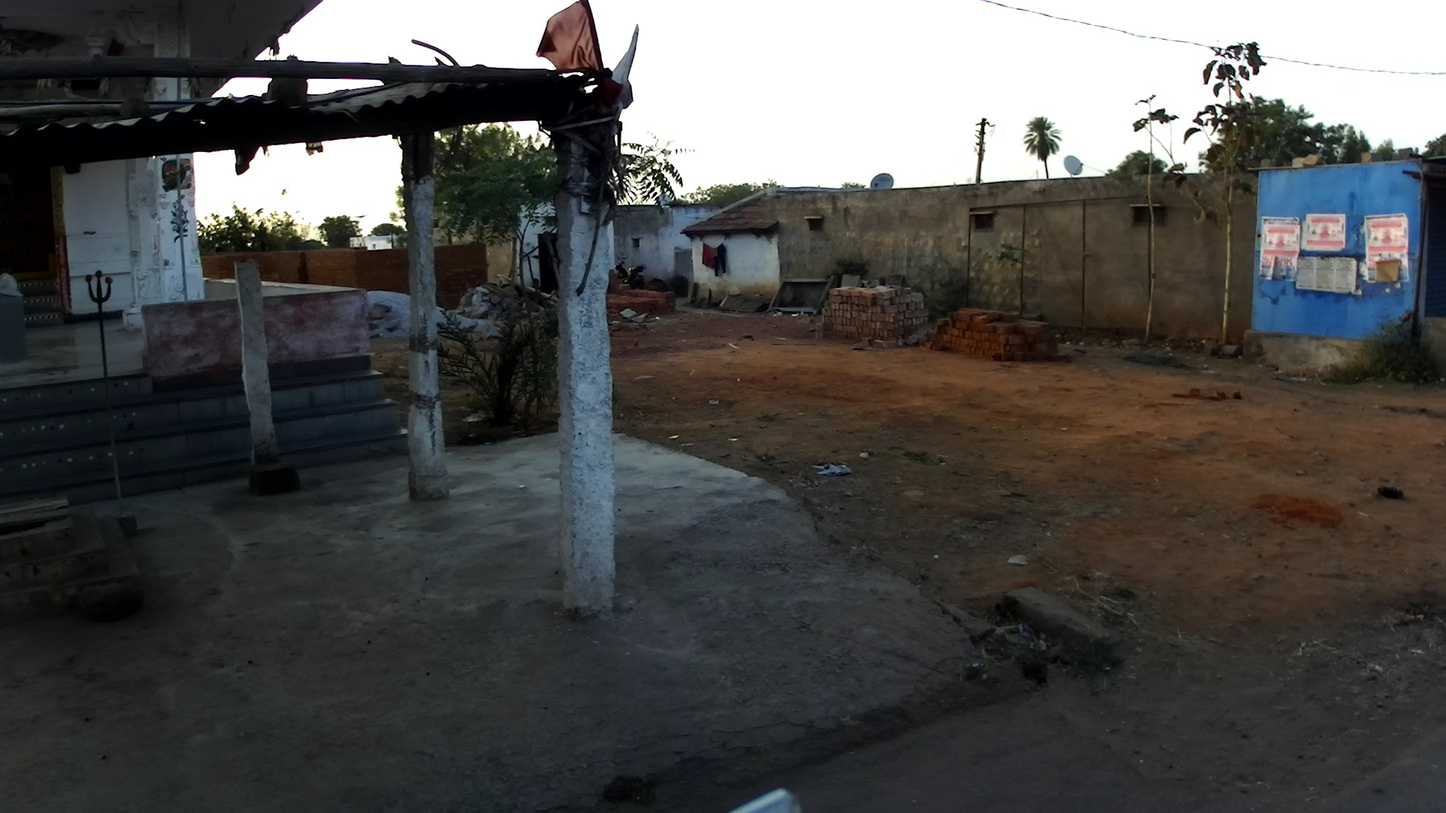motorcycle: (622, 261, 668, 291), (613, 254, 630, 281)
person: (529, 276, 541, 291)
